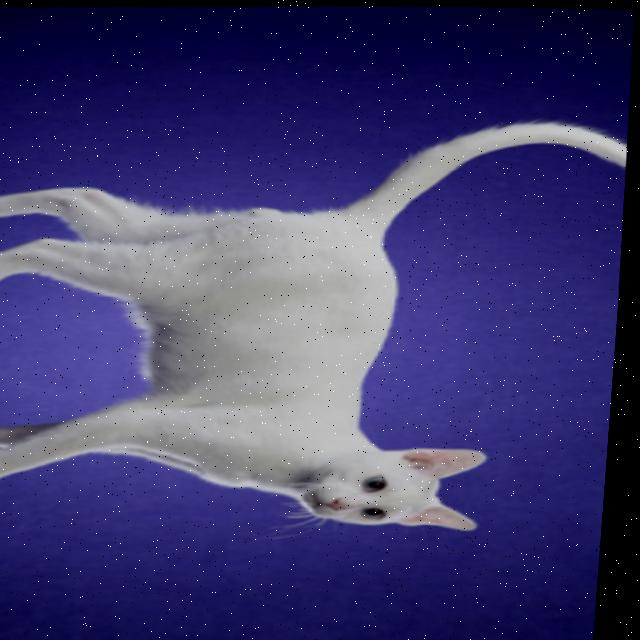Khao Manee: (0, 109, 634, 541)
